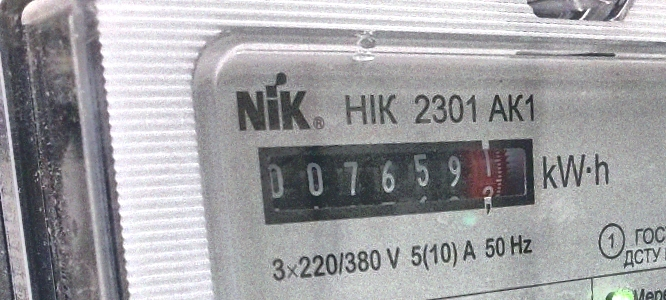0: (299, 155, 328, 199), (260, 158, 288, 201)
1: (476, 146, 498, 180)
5: (408, 149, 433, 189)
6: (374, 154, 400, 196)
7: (339, 156, 363, 198)
9: (443, 151, 464, 190)
screen: (244, 102, 550, 257)
